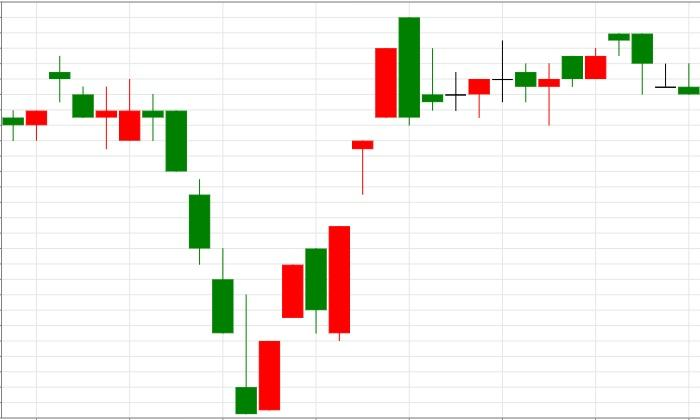bearish_engulfing_fall: (329, 17, 420, 341)
inverse_hammer_rise: (142, 94, 257, 414)
